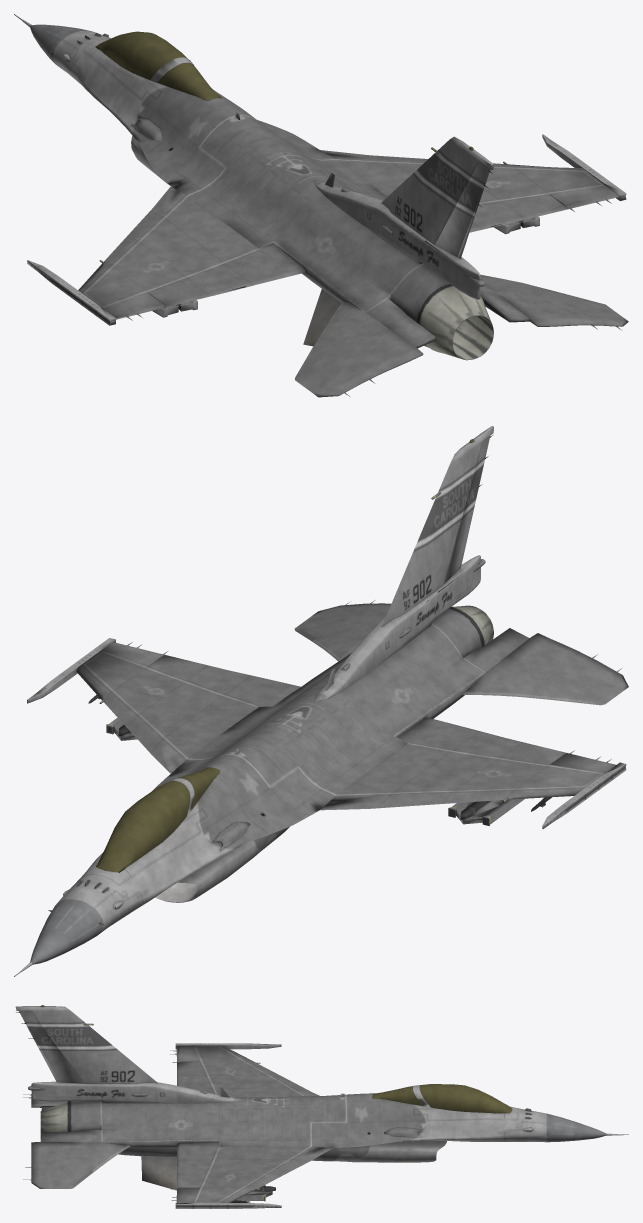
3 renders of one model, top to bottom at view 1: azimuth 30°, elevation 25°; view 2: azimuth 150°, elevation 25°; view 3: azimuth 270°, elevation 25°, orthographic. The views are drawn at different scales.
Parts seen in each view (by area): view 1: hull; view 2: hull; view 3: hull.
Boxes of the visible parts, x1,y1,x2,y2 form: hull: [14, 14, 628, 397]; hull: [14, 426, 628, 976]; hull: [15, 1005, 628, 1208].
Bounding box in the file's own units: 9.37 × 4.57 × 15.06.
1 material, 1 textured.
